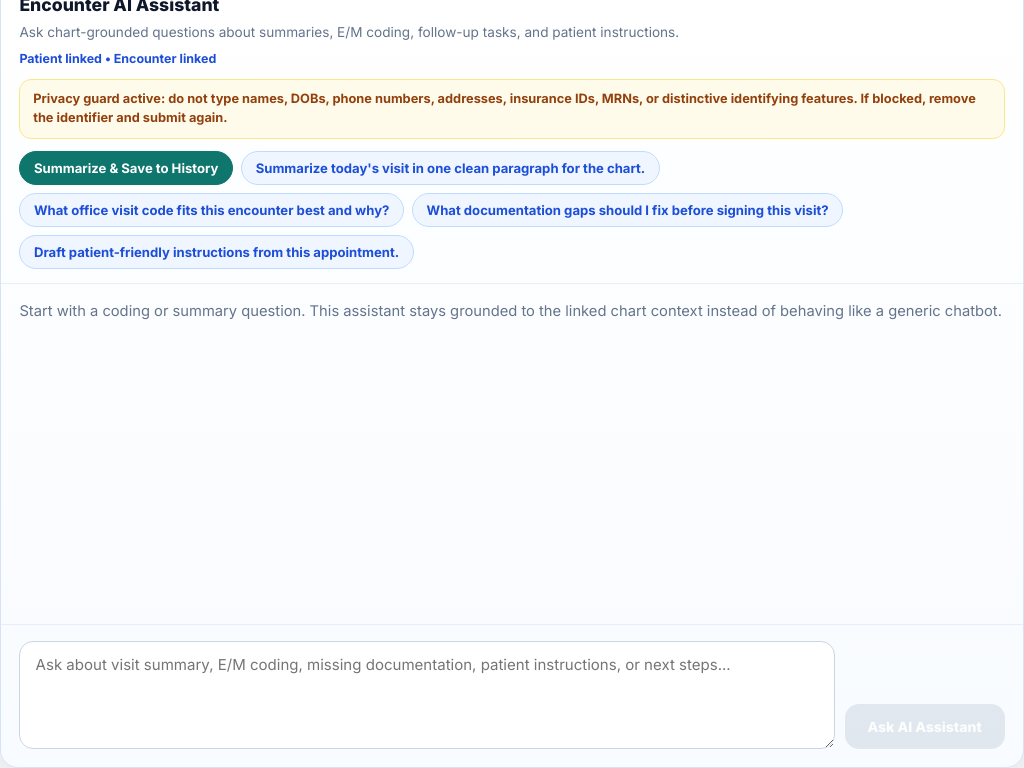
ClinicalCopilotPanel › shows a full-screen HIPAA warning when the assistant blocks patient identifiers
(page scrolled)
Replace the text in the text box with placeholder "Ask about visit summary" with "Dominic Lopez has acne. What code should I use?" at (427,694), box [19, 640, 835, 748]
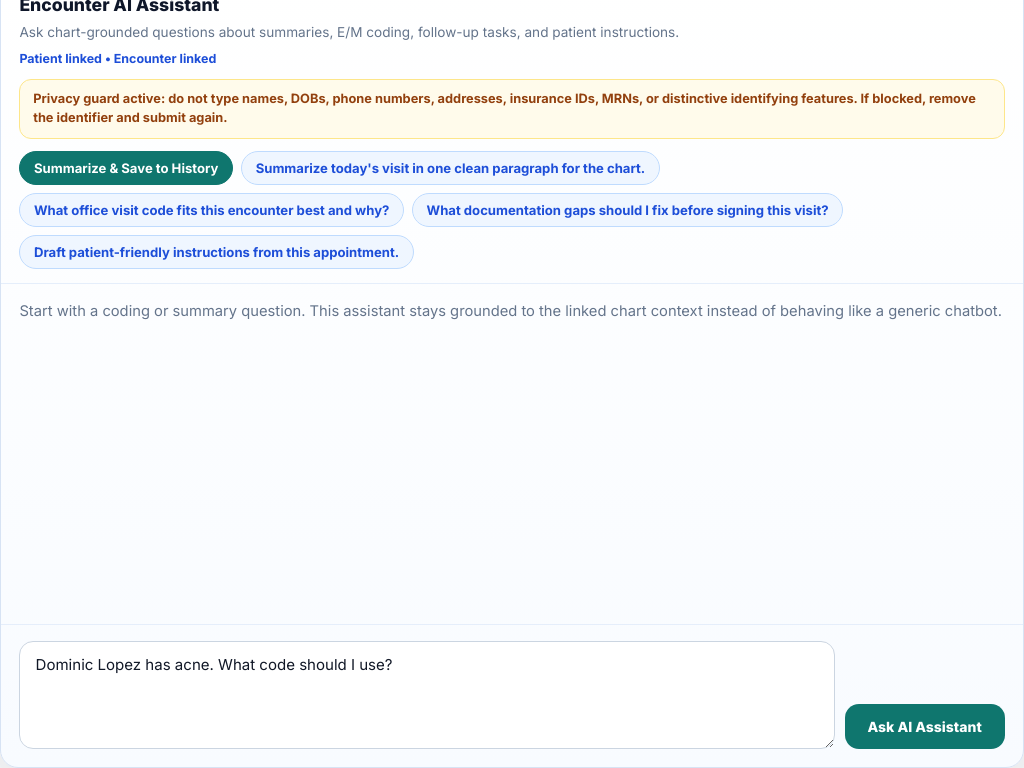
Click the button "Ask AI Assistant" at (925,726), box [845, 704, 1005, 749]
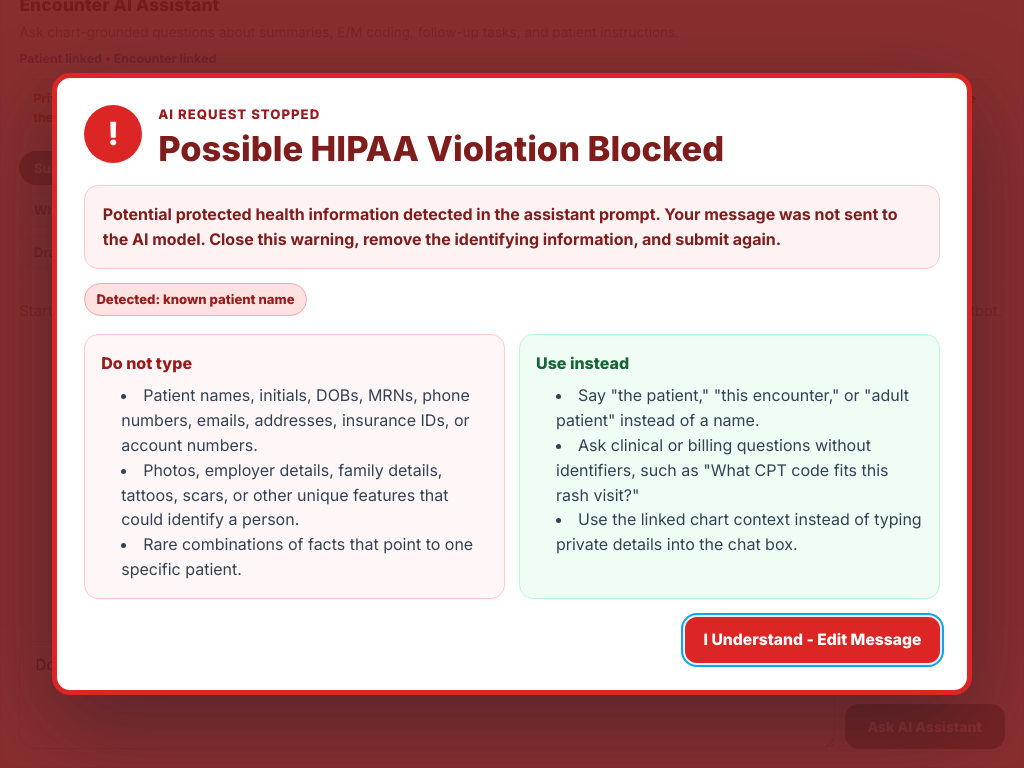
Expected: the dialog "Possible HIPAA Violation Blocked" is shown
Expected: the dialog "Possible HIPAA Violation Blocked" shows "Your message was not sent to the AI model", [103, 204, 898, 249]
Expected: the dialog "Possible HIPAA Violation Blocked" shows "Detected: known patient name"
Click the button "I Understand - Edit Message" at (812,640), box [685, 617, 940, 663]
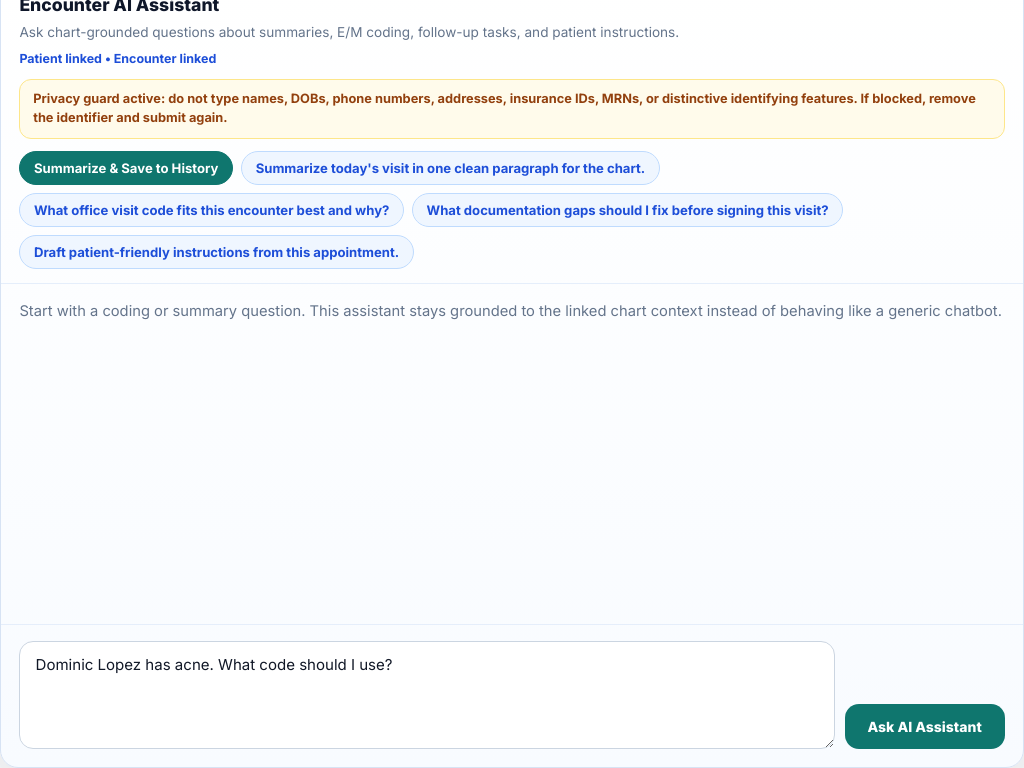
Expected: the dialog is gone
